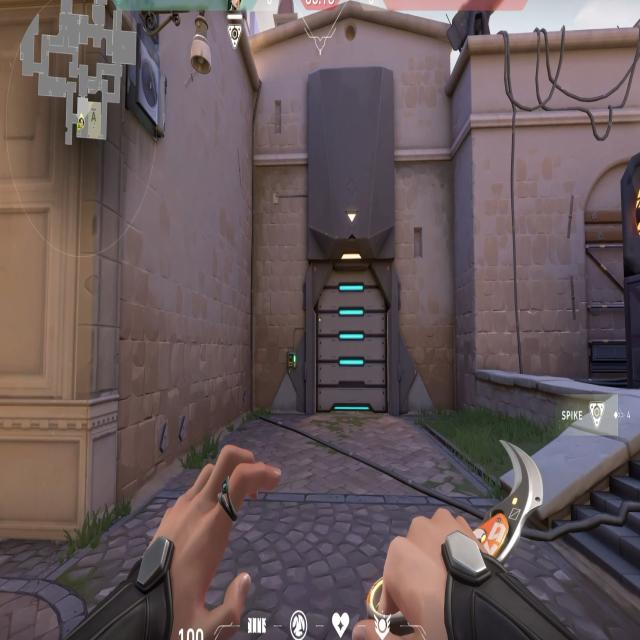A_Door: (304, 238, 398, 432)
